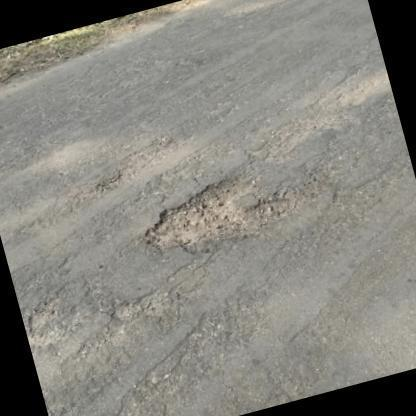pothole: (141, 174, 316, 252), (114, 284, 175, 324), (26, 295, 68, 332)
